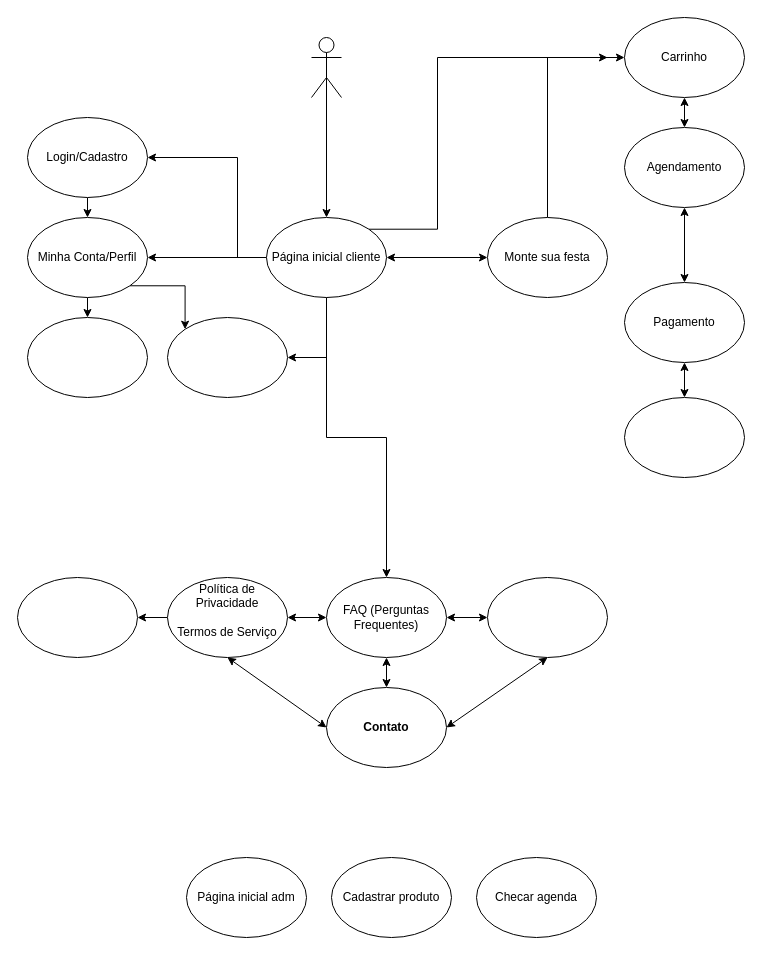
The diagram is 762 pixels wide and 955 high, and some of its shapes have lost their labels. Here are the shapes that lost their labels. From the top down, the centre of each, then its label:
At pixel 326 67: "Usuário".
At pixel 87 357: "Recuperar senha".
At pixel 227 357: "Minha Agenda".
At pixel 684 437: "Confirmação de Pedido".
At pixel 77 617: "Política de Cancelamemto".
At pixel 547 617: "Sobre Nós Blog/Portfólio".
